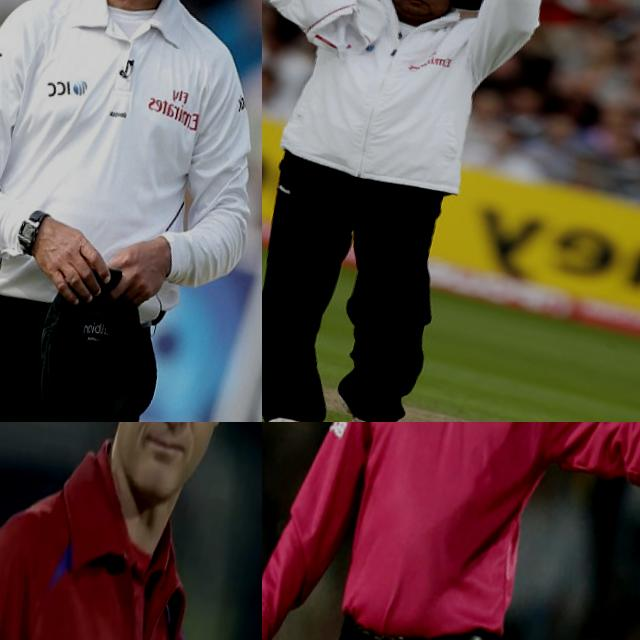No_Action: (0, 0, 262, 422), (0, 422, 262, 640)
No_Ball: (262, 422, 640, 640)
Six: (262, 0, 602, 422)
